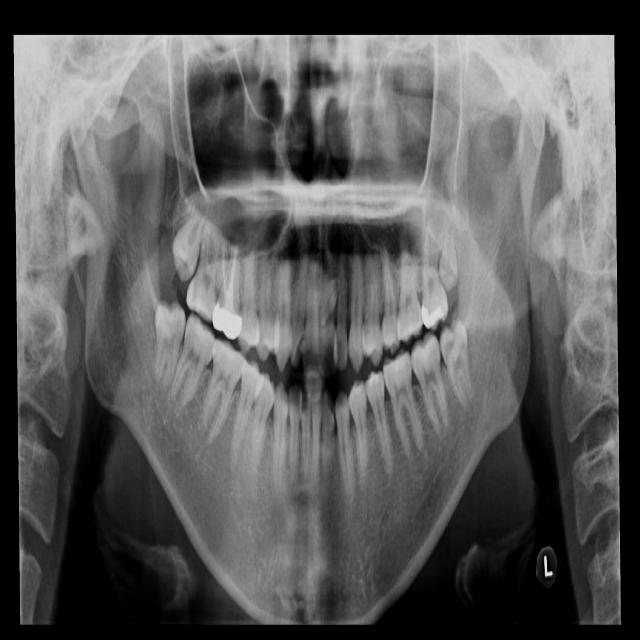Crown: (212, 305, 243, 340)
Filling: (422, 305, 442, 328)
Root Canal Treatment: (228, 245, 238, 298), (220, 245, 228, 303), (233, 253, 238, 304)
impacted tooth: (439, 325, 473, 408), (156, 302, 185, 394), (173, 195, 204, 279), (440, 212, 456, 289)
